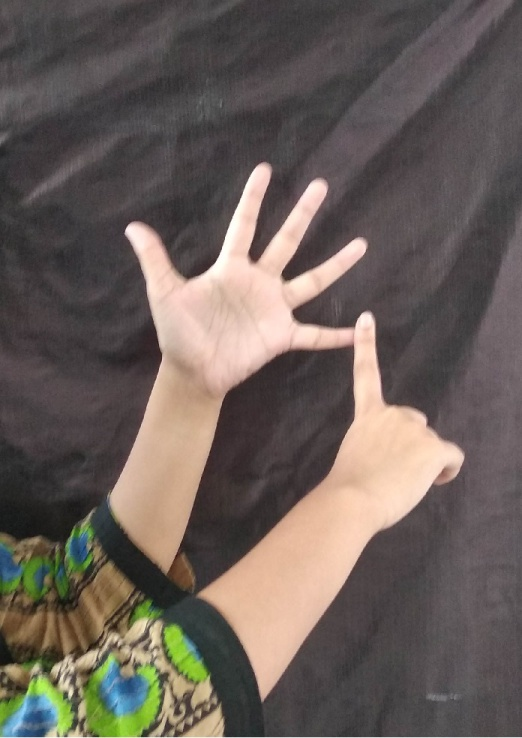i: (112, 158, 423, 449)
